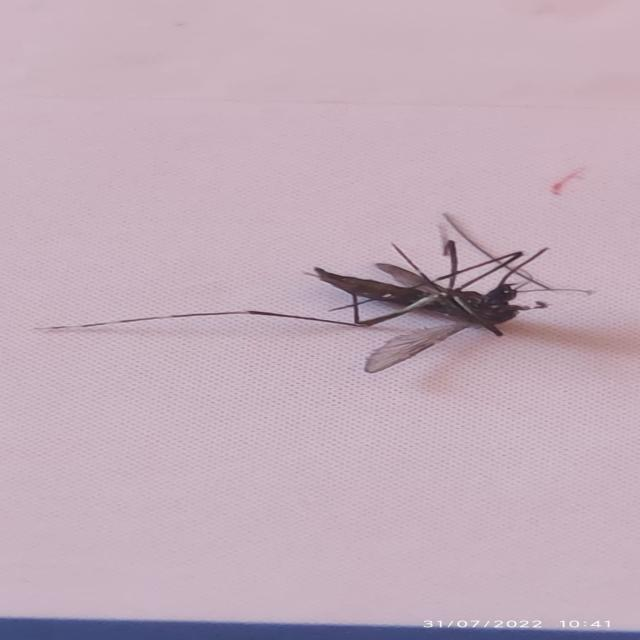albopictus: (84, 208, 605, 380)
